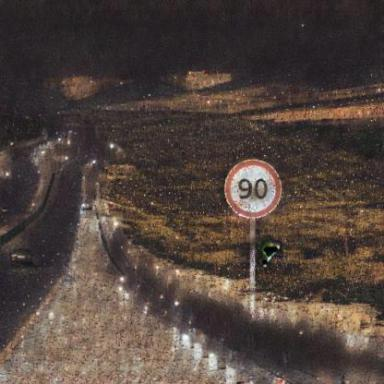Speed_limit_90: (227, 158, 281, 221)
